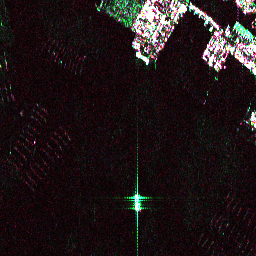ship: (133, 49, 152, 65), (133, 193, 141, 212)
